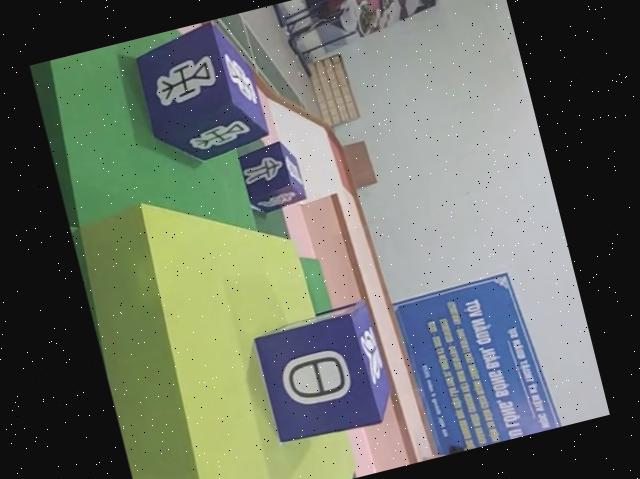R2 Fake Blue: (247, 295, 397, 446), (236, 138, 308, 217)
R2 Real Blue: (126, 14, 269, 169)
